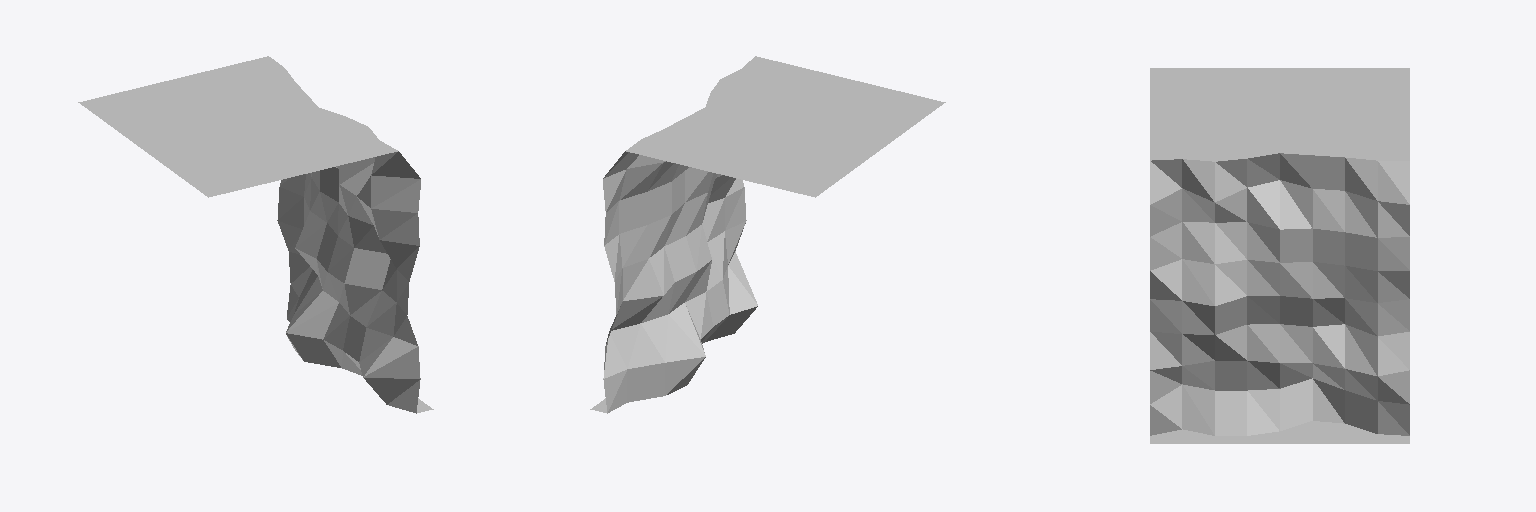
File: dirt_one_sided_00.obj
3 views of the same model, side by side, from view 1: azimuth 30°, elevation 25°; view 2: azimuth 150°, elevation 25°; view 3: azimuth 270°, elevation 25° (orthographic).
Parts seen in each view (by area): view 1: dirt_one_sided_00.obj; view 2: dirt_one_sided_00.obj; view 3: dirt_one_sided_00.obj.
Part boxes in pixels (x1,y1,x2,y2): dirt_one_sided_00.obj: (78, 56, 433, 413); dirt_one_sided_00.obj: (590, 56, 945, 413); dirt_one_sided_00.obj: (1150, 68, 1409, 443).
Bounding box in the file's own units: 2.5 × 2.83 × 2.5.